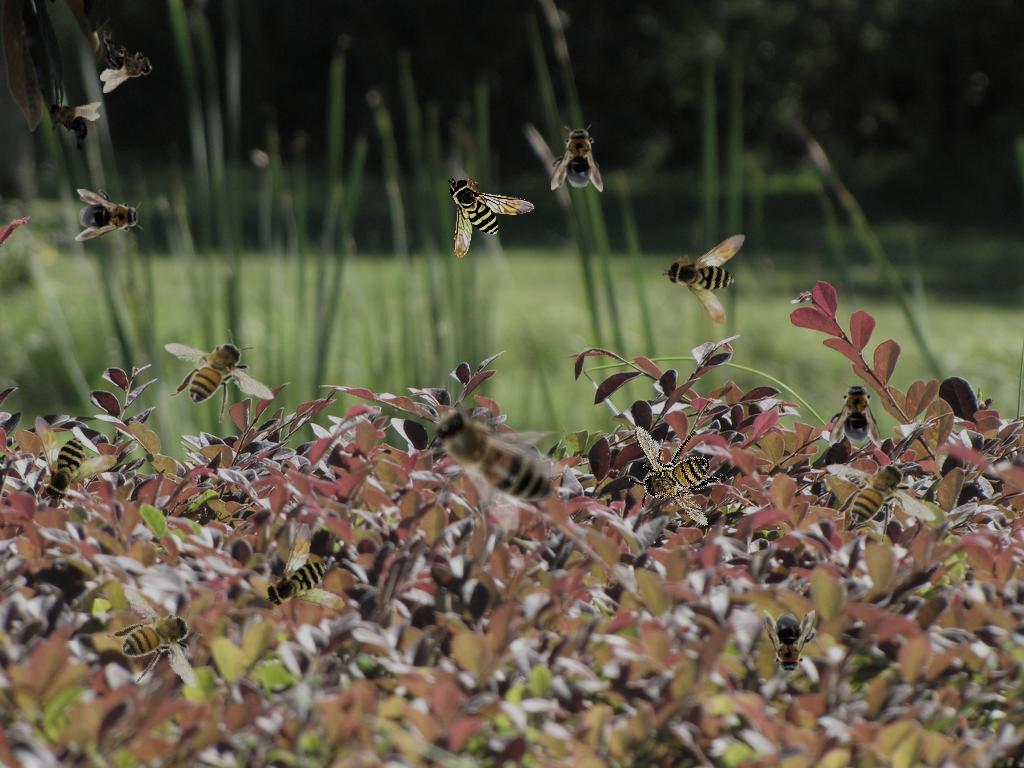Bee: (403, 373, 565, 540), (602, 403, 745, 541), (87, 573, 230, 711), (658, 212, 780, 332), (9, 391, 123, 509), (164, 329, 275, 423), (826, 450, 937, 544), (261, 518, 357, 618), (447, 176, 535, 258), (34, 83, 107, 161), (762, 608, 818, 678), (75, 189, 143, 241), (829, 380, 881, 448), (551, 124, 603, 192), (100, 31, 153, 93)
